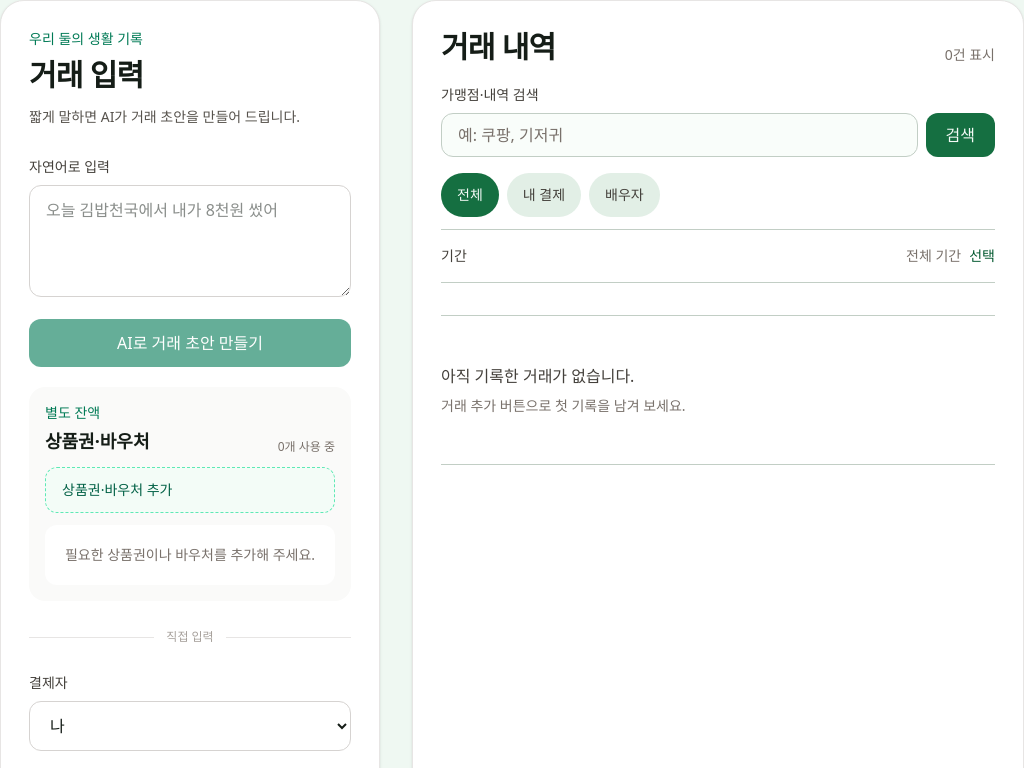
Test: TransactionsPage › validates the date range before requesting filtered transactions
Check: the text "아직 기록한 거래가 없습니다." is shown, box [441,365,634,387]
Click the text "기간".
click(454, 256)  # box [441,246,467,266]
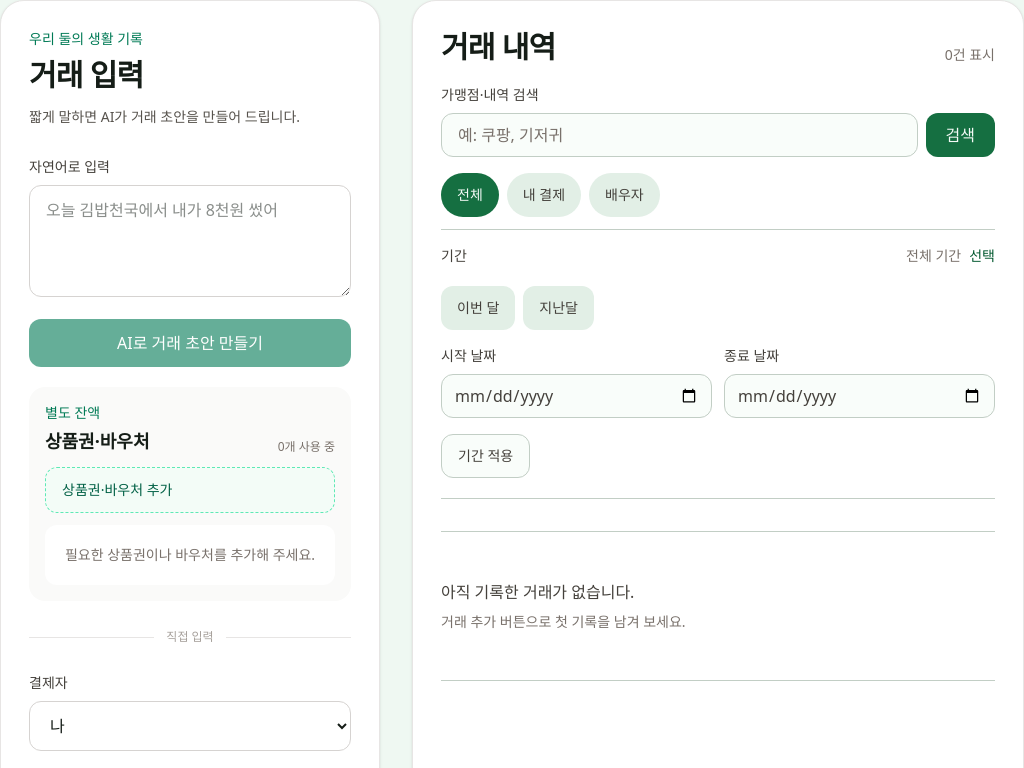
Type "2026-08-02" into the date field labelled "시작 날짜".
click(576, 396); type("2026-08-02")  # box [441,374,712,418]
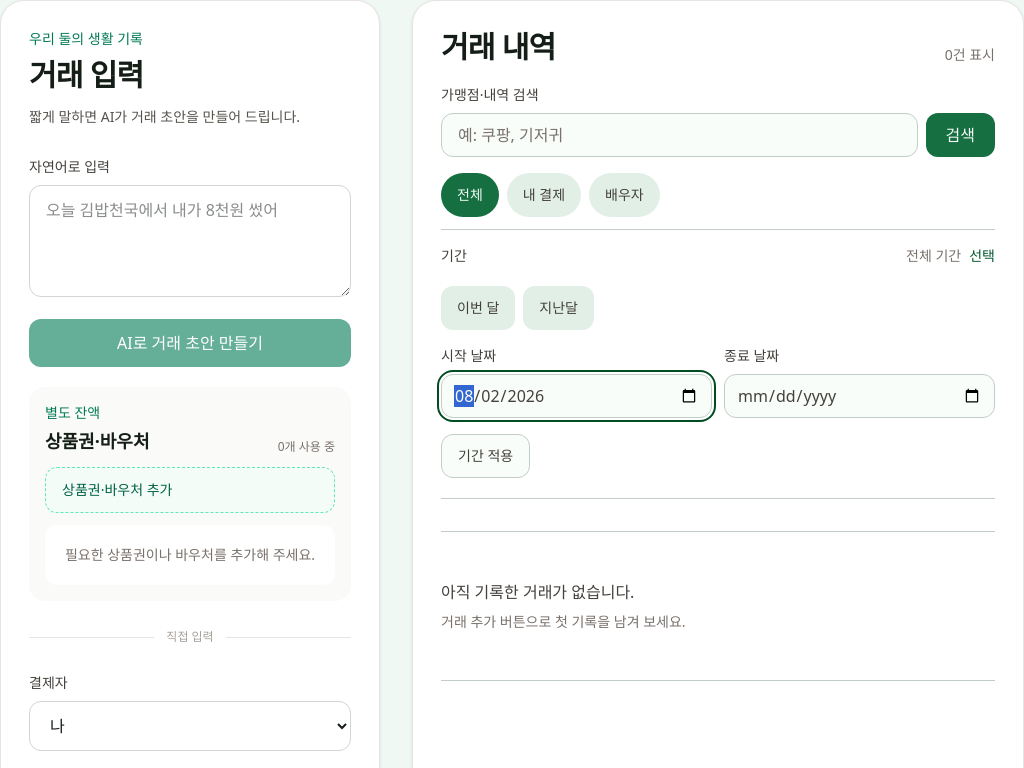
Type "2026-08-01" into the date field labelled "종료 날짜".
click(860, 396); type("2026-08-01")  # box [724,374,995,418]
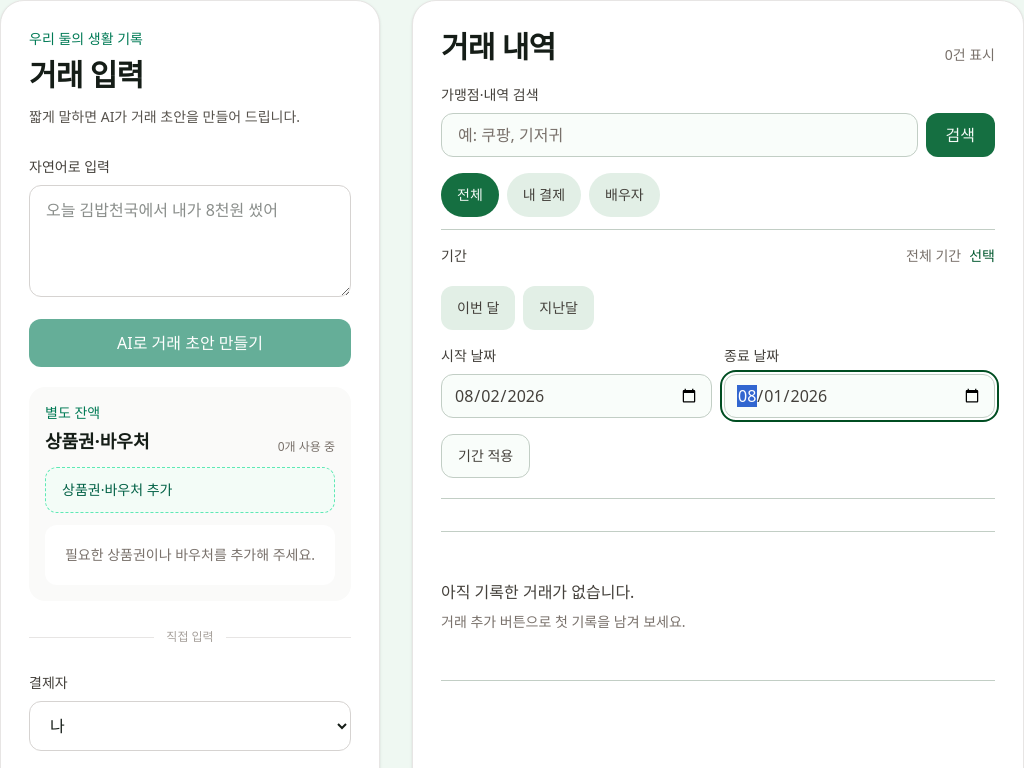
Click the button "기간 적용".
click(486, 456)  # box [441,434,530,478]
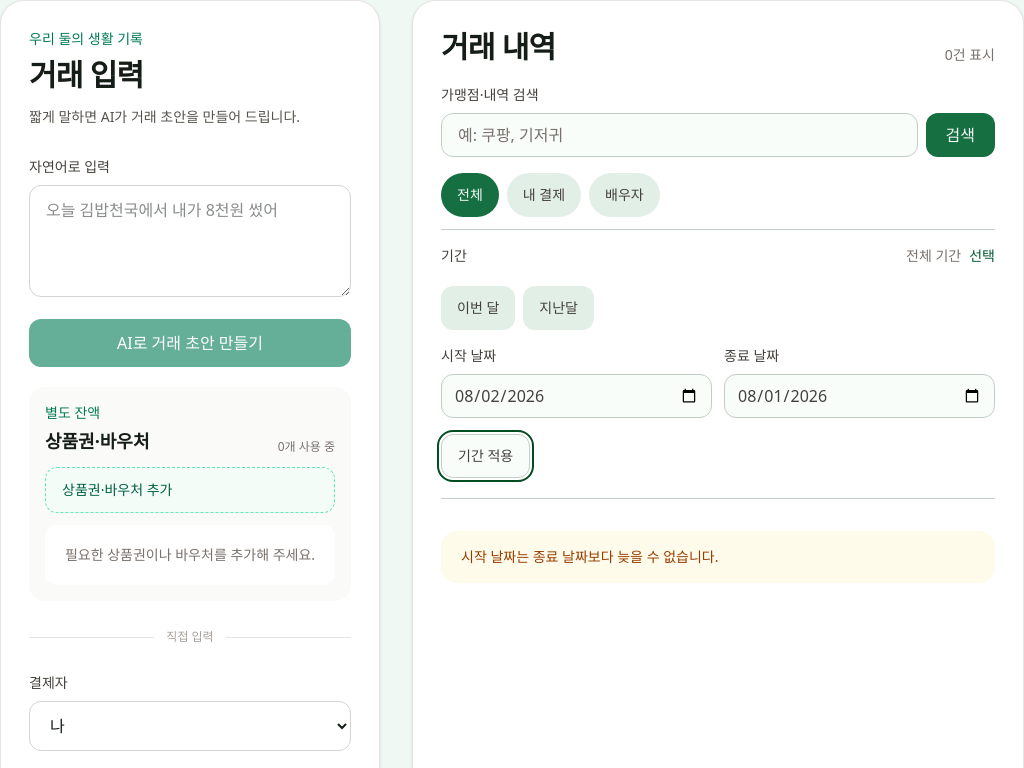
Check: the message reads "시작 날짜는 종료 날짜보다 늦을 수 없습니다.", box [461,547,718,566]
